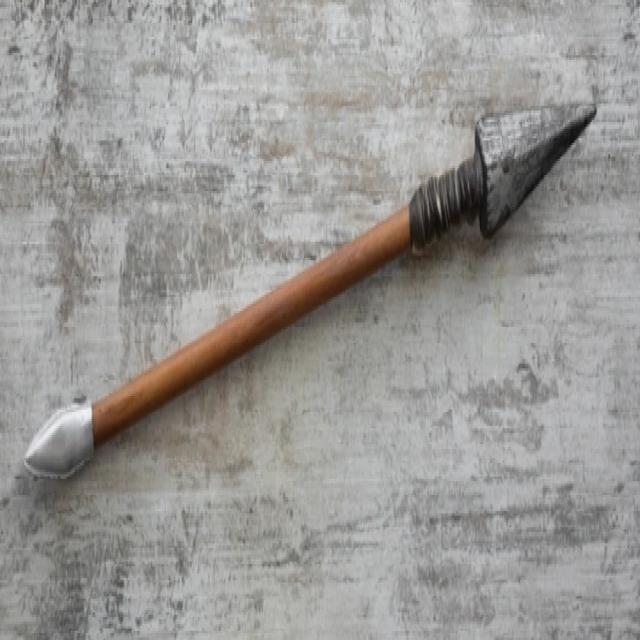spear: (18, 62, 600, 534)
